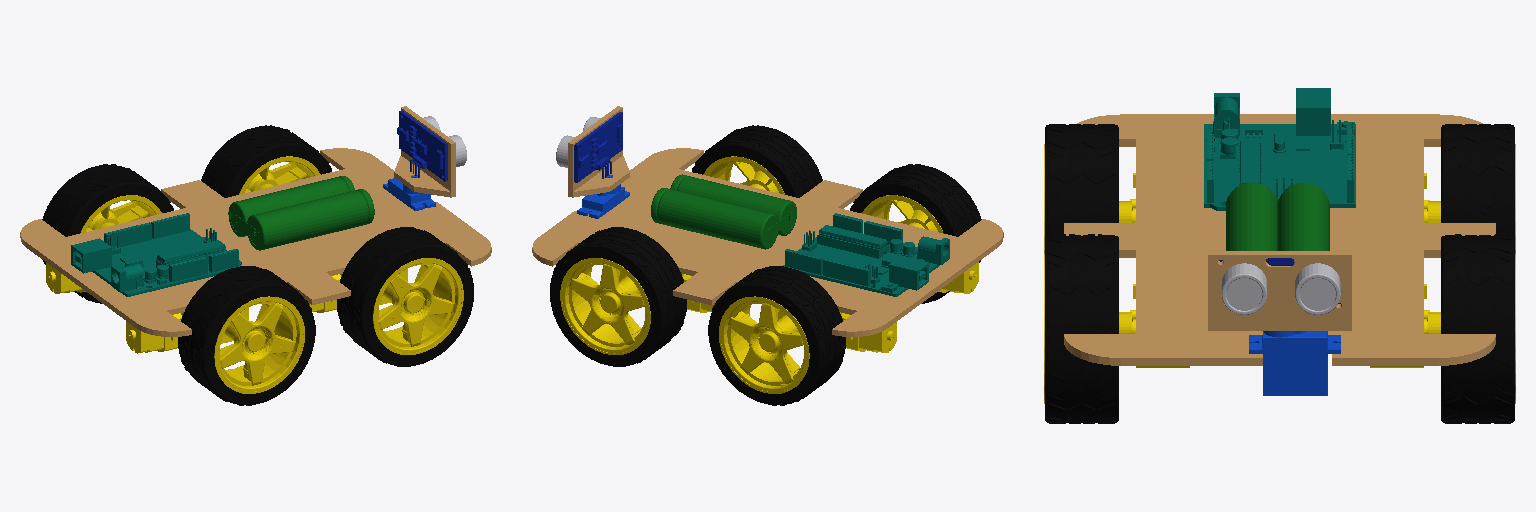
robot.urdf — obs_avoid_robot:
<?xml version="1.0"?>
<!-- Generated from GrabCAD "avoid obstacles robot" STEP. Frames: x forward, y left, z up. Units: metres, kg. -->
<robot name="obs_avoid_robot">
  <material name="wood"><color rgba="0.8 0.62 0.4 1"/></material>
  <material name="yellow"><color rgba="0.95 0.85 0.05 1"/></material>
  <material name="blue"><color rgba="0.1 0.35 0.85 1"/></material>
  <material name="teal"><color rgba="0.05 0.45 0.4 1"/></material>
  <material name="green"><color rgba="0.1 0.45 0.15 1"/></material>
  <material name="black"><color rgba="0.08 0.08 0.08 1"/></material>
  <material name="rim"><color rgba="0.9 0.8 0.05 1"/></material>
  <material name="silver"><color rgba="0.75 0.75 0.78 1"/></material>
  <material name="pcb"><color rgba="0.1 0.2 0.65 1"/></material>
  <link name="base_footprint"/>
  <joint name="base_footprint_joint" type="fixed">
    <parent link="base_footprint"/><child link="base_link"/>
    <origin xyz="0 0 0.03289" rpy="0 0 0"/>
  </joint>
  <link name="base_link">
    <inertial>
      <origin xyz="-0.00333 -0.00009 0.00951" rpy="0 0 0"/>
      <mass value="0.3590"/>
      <inertia ixx="4.2502e-04" ixy="-1.8579e-06" ixz="-4.6525e-05" iyy="9.4014e-04" iyz="9.6695e-07" izz="1.2727e-03"/>
    </inertial>
    <visual>
      <origin xyz="0 0 0" rpy="0 0 0"/>
      <geometry><mesh filename="package://obs_avoid_description/meshes/base_chassis.stl"/></geometry>
      <material name="wood"/>
    </visual>
    <visual>
      <origin xyz="0 0 0" rpy="0 0 0"/>
      <geometry><mesh filename="package://obs_avoid_description/meshes/base_motors.stl"/></geometry>
      <material name="yellow"/>
    </visual>
    <visual>
      <origin xyz="0 0 0" rpy="0 0 0"/>
      <geometry><mesh filename="package://obs_avoid_description/meshes/base_servo.stl"/></geometry>
      <material name="blue"/>
    </visual>
    <visual>
      <origin xyz="0 0 0" rpy="0 0 0"/>
      <geometry><mesh filename="package://obs_avoid_description/meshes/base_arduino.stl"/></geometry>
      <material name="teal"/>
    </visual>
    <visual>
      <origin xyz="0 0 0" rpy="0 0 0"/>
      <geometry><mesh filename="package://obs_avoid_description/meshes/base_battery.stl"/></geometry>
      <material name="green"/>
    </visual>
    <collision>
      <origin xyz="-0.00047 0.00000 0.01270" rpy="0 0 0"/>
      <geometry><box size="0.20000 0.15000 0.00300"/></geometry>
    </collision>
    <collision>
      <origin xyz="-0.01706 0.00000 0.00000" rpy="0 0 0"/>
      <geometry><box size="0.15912 0.11760 0.02271"/></geometry>
    </collision>
  </link>
  <link name="wheel_front_right_link">
    <inertial>
      <origin xyz="0.00000 0.00000 0.00000" rpy="0 0 0"/>
      <mass value="0.0300"/>
      <inertia ixx="9.7411e-06" ixy="0.0000e+00" ixz="0.0000e+00" iyy="1.6231e-05" iyz="0.0000e+00" izz="9.7411e-06"/>
    </inertial>
    <visual>
      <origin xyz="0 0 0" rpy="0 0 0"/>
      <geometry><mesh filename="package://obs_avoid_description/meshes/wheel_right_tyre.stl"/></geometry>
      <material name="black"/>
    </visual>
    <visual>
      <origin xyz="0 0 0" rpy="0 0 0"/>
      <geometry><mesh filename="package://obs_avoid_description/meshes/wheel_right_rim.stl"/></geometry>
      <material name="rim"/>
    </visual>
    <collision>
      <origin xyz="0 0 0" rpy="1.5707963 0 0"/>
      <geometry><cylinder radius="0.03289" length="0.02550"/></geometry>
    </collision>
  </link>
  <joint name="wheel_front_right_joint" type="continuous">
    <parent link="base_link"/><child link="wheel_front_right_link"/>
    <origin xyz="0.04541 -0.06870 0" rpy="0 0 0"/>
    <axis xyz="0 1 0"/>
    <dynamics damping="0.01" friction="0.0"/>
  </joint>
  <link name="wheel_front_left_link">
    <inertial>
      <origin xyz="0.00000 0.00000 0.00000" rpy="0 0 0"/>
      <mass value="0.0300"/>
      <inertia ixx="9.7411e-06" ixy="0.0000e+00" ixz="0.0000e+00" iyy="1.6231e-05" iyz="0.0000e+00" izz="9.7411e-06"/>
    </inertial>
    <visual>
      <origin xyz="0 0 0" rpy="0 0 0"/>
      <geometry><mesh filename="package://obs_avoid_description/meshes/wheel_left_tyre.stl"/></geometry>
      <material name="black"/>
    </visual>
    <visual>
      <origin xyz="0 0 0" rpy="0 0 0"/>
      <geometry><mesh filename="package://obs_avoid_description/meshes/wheel_left_rim.stl"/></geometry>
      <material name="rim"/>
    </visual>
    <collision>
      <origin xyz="0 0 0" rpy="1.5707963 0 0"/>
      <geometry><cylinder radius="0.03289" length="0.02550"/></geometry>
    </collision>
  </link>
  <joint name="wheel_front_left_joint" type="continuous">
    <parent link="base_link"/><child link="wheel_front_left_link"/>
    <origin xyz="0.04541 0.06870 0" rpy="0 0 0"/>
    <axis xyz="0 1 0"/>
    <dynamics damping="0.01" friction="0.0"/>
  </joint>
  <link name="wheel_rear_right_link">
    <inertial>
      <origin xyz="0.00000 0.00000 0.00000" rpy="0 0 0"/>
      <mass value="0.0300"/>
      <inertia ixx="9.7411e-06" ixy="0.0000e+00" ixz="0.0000e+00" iyy="1.6231e-05" iyz="0.0000e+00" izz="9.7411e-06"/>
    </inertial>
    <visual>
      <origin xyz="0 0 0" rpy="0 0 0"/>
      <geometry><mesh filename="package://obs_avoid_description/meshes/wheel_right_tyre.stl"/></geometry>
      <material name="black"/>
    </visual>
    <visual>
      <origin xyz="0 0 0" rpy="0 0 0"/>
      <geometry><mesh filename="package://obs_avoid_description/meshes/wheel_right_rim.stl"/></geometry>
      <material name="rim"/>
    </visual>
    <collision>
      <origin xyz="0 0 0" rpy="1.5707963 0 0"/>
      <geometry><cylinder radius="0.03289" length="0.02550"/></geometry>
    </collision>
  </link>
  <joint name="wheel_rear_right_joint" type="continuous">
    <parent link="base_link"/><child link="wheel_rear_right_link"/>
    <origin xyz="-0.04541 -0.06870 0" rpy="0 0 0"/>
    <axis xyz="0 1 0"/>
    <dynamics damping="0.01" friction="0.0"/>
  </joint>
  <link name="wheel_rear_left_link">
    <inertial>
      <origin xyz="0.00000 0.00000 0.00000" rpy="0 0 0"/>
      <mass value="0.0300"/>
      <inertia ixx="9.7411e-06" ixy="0.0000e+00" ixz="0.0000e+00" iyy="1.6231e-05" iyz="0.0000e+00" izz="9.7411e-06"/>
    </inertial>
    <visual>
      <origin xyz="0 0 0" rpy="0 0 0"/>
      <geometry><mesh filename="package://obs_avoid_description/meshes/wheel_left_tyre.stl"/></geometry>
      <material name="black"/>
    </visual>
    <visual>
      <origin xyz="0 0 0" rpy="0 0 0"/>
      <geometry><mesh filename="package://obs_avoid_description/meshes/wheel_left_rim.stl"/></geometry>
      <material name="rim"/>
    </visual>
    <collision>
      <origin xyz="0 0 0" rpy="1.5707963 0 0"/>
      <geometry><cylinder radius="0.03289" length="0.02550"/></geometry>
    </collision>
  </link>
  <joint name="wheel_rear_left_joint" type="continuous">
    <parent link="base_link"/><child link="wheel_rear_left_link"/>
    <origin xyz="-0.04541 0.06870 0" rpy="0 0 0"/>
    <axis xyz="0 1 0"/>
    <dynamics damping="0.01" friction="0.0"/>
  </joint>
  <link name="servo_link">
    <inertial>
      <origin xyz="0.00581 -0.00009 0.00706" rpy="0 0 0"/>
      <mass value="0.0060"/>
      <inertia ixx="1.6891e-06" ixy="1.3365e-09" ixz="-9.6772e-08" iyy="5.9727e-07" iyz="8.5648e-10" izz="1.2591e-06"/>
    </inertial>
    <visual>
      <origin xyz="0 0 0" rpy="0 0 0"/>
      <geometry><mesh filename="package://obs_avoid_description/meshes/bracket.stl"/></geometry>
      <material name="wood"/>
    </visual>
    <collision>
      <origin xyz="0.00154 0.00003 0.01210" rpy="0 0 0"/>
      <geometry><box size="0.01555 0.05000 0.02921"/></geometry>
    </collision>
  </link>
  <joint name="servo_joint" type="revolute">
    <parent link="base_link"/><child link="servo_link"/>
    <origin xyz="0.09052 -0.00004 0.02720" rpy="0 0 0"/>
    <axis xyz="0 0 1"/>
    <limit lower="-1.5708" upper="1.5708" effort="0.2" velocity="5.2"/>
    <dynamics damping="0.005"/>
  </joint>
  <link name="sonar_link">
    <inertial>
      <origin xyz="-0.01169 0.00050 -0.00003" rpy="0 0 0"/>
      <mass value="0.0090"/>
      <inertia ixx="1.7096e-06" ixy="8.5370e-09" ixz="-1.2981e-08" iyy="3.8103e-07" iyz="8.6328e-09" izz="1.5225e-06"/>
    </inertial>
    <visual>
      <origin xyz="0 0 0" rpy="0 0 0"/>
      <geometry><mesh filename="package://obs_avoid_description/meshes/sonar_body.stl"/></geometry>
      <material name="pcb"/>
    </visual>
    <visual>
      <origin xyz="0 0 0" rpy="0 0 0"/>
      <geometry><mesh filename="package://obs_avoid_description/meshes/sonar_transducers.stl"/></geometry>
      <material name="silver"/>
    </visual>
  </link>
  <joint name="sonar_joint" type="fixed">
    <parent link="servo_link"/><child link="sonar_link"/>
    <origin xyz="0.01832 0.00043 0.01550" rpy="0 0 0"/>
  </joint>
  <gazebo reference="wheel_front_right_link">
    <mu1>1.0</mu1><mu2>1.0</mu2><kp>500000.0</kp><kd>10.0</kd>
  </gazebo>
  <gazebo reference="wheel_front_left_link">
    <mu1>1.0</mu1><mu2>1.0</mu2><kp>500000.0</kp><kd>10.0</kd>
  </gazebo>
  <gazebo reference="wheel_rear_right_link">
    <mu1>1.0</mu1><mu2>1.0</mu2><kp>500000.0</kp><kd>10.0</kd>
  </gazebo>
  <gazebo reference="wheel_rear_left_link">
    <mu1>1.0</mu1><mu2>1.0</mu2><kp>500000.0</kp><kd>10.0</kd>
  </gazebo>
</robot>

--- What the picture shows (computed from the rendered views, not written in the file) ---
3 views of the same robot in one strip: view 1: azimuth 30°, elevation 25°; view 2: azimuth 150°, elevation 25°; view 3: azimuth 270°, elevation 25° (orthographic).
Model obs_avoid_robot with 8 links and 7 joints (1 revolute, 4 continuous, 2 fixed), rooted at base_footprint, posed all joints at 0.
Visible links, largest first — view 1: base_link, wheel_rear_right_link, wheel_front_right_link, wheel_rear_left_link, wheel_front_left_link, sonar_link, servo_link; view 2: base_link, wheel_rear_left_link, wheel_front_left_link, wheel_rear_right_link, wheel_front_right_link, sonar_link, servo_link; view 3: base_link, wheel_front_right_link, wheel_front_left_link, wheel_rear_right_link, wheel_rear_left_link, servo_link, sonar_link.
Boxes of the visible links, bbox=[...] form: base_link: bbox=[20, 148, 491, 353]; wheel_rear_right_link: bbox=[178, 266, 315, 405]; wheel_front_right_link: bbox=[337, 227, 473, 366]; wheel_rear_left_link: bbox=[42, 164, 173, 303]; wheel_front_left_link: bbox=[201, 125, 331, 197]; sonar_link: bbox=[397, 110, 466, 181]; servo_link: bbox=[394, 106, 455, 197]; base_link: bbox=[532, 148, 1003, 352]; wheel_rear_left_link: bbox=[708, 266, 845, 405]; wheel_front_left_link: bbox=[550, 227, 686, 366]; wheel_rear_right_link: bbox=[850, 164, 981, 303]; wheel_front_right_link: bbox=[692, 125, 822, 197]; sonar_link: bbox=[556, 112, 622, 182]; servo_link: bbox=[568, 106, 629, 197]; base_link: bbox=[1064, 88, 1495, 395]; wheel_front_right_link: bbox=[1044, 234, 1131, 423]; wheel_front_left_link: bbox=[1428, 234, 1515, 423]; wheel_rear_right_link: bbox=[1044, 124, 1131, 253]; wheel_rear_left_link: bbox=[1428, 124, 1515, 253]; servo_link: bbox=[1208, 251, 1351, 330]; sonar_link: bbox=[1219, 258, 1340, 314].
Bounding box of the posed robot: 0.2093 × 0.1634 × 0.0868 m (x, y, z).
Meshes: 12 distinct files referenced, 16 mesh visuals loaded (12 binary STL).
